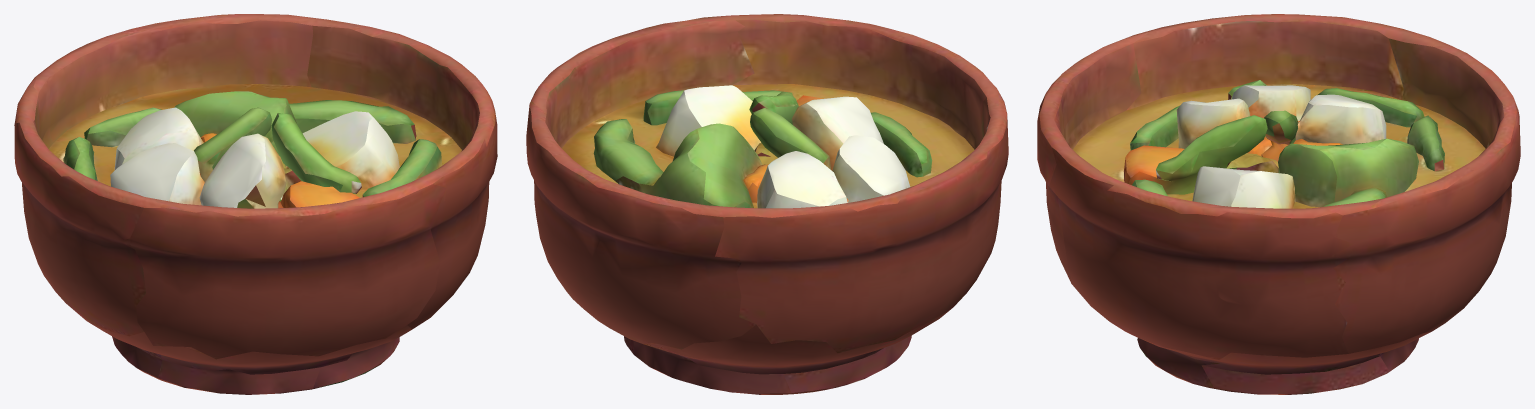
File: veg_soup.glb
3 renders of one model, left to right at view 1: azimuth 30°, elevation 25°; view 2: azimuth 150°, elevation 25°; view 3: azimuth 270°, elevation 25°, orthographic.
Visible parts, largest first — view 1: item_veg_soup; view 2: item_veg_soup; view 3: item_veg_soup.
Boxes of the visible parts, left/top/right/bottom form: item_veg_soup: left=14, top=14, right=497, bottom=394; item_veg_soup: left=526, top=14, right=1008, bottom=394; item_veg_soup: left=1037, top=14, right=1520, bottom=394.
Bounding box in the file's own units: 1 × 0.5145 × 0.9983.
1 material, 1 textured.
